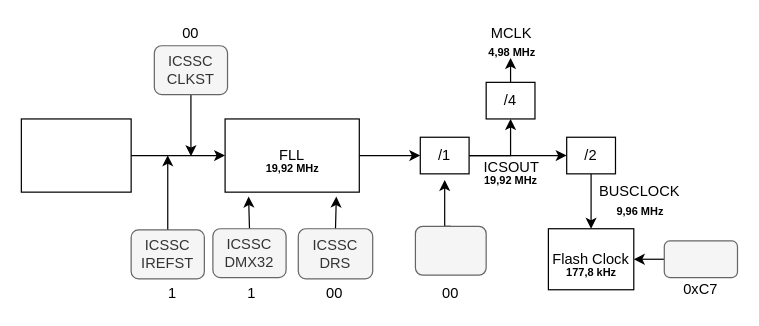
The diagram is 759 pixels wide and 326 high, and some of its shapes have lost their labels. Each missing label, with the centre of its shape:
"FCDIV" goes at (x=700, y=259).
"ICSC2 BDIV" goes at (x=450, y=250).
"Internal clock" goes at (x=75, y=155).
